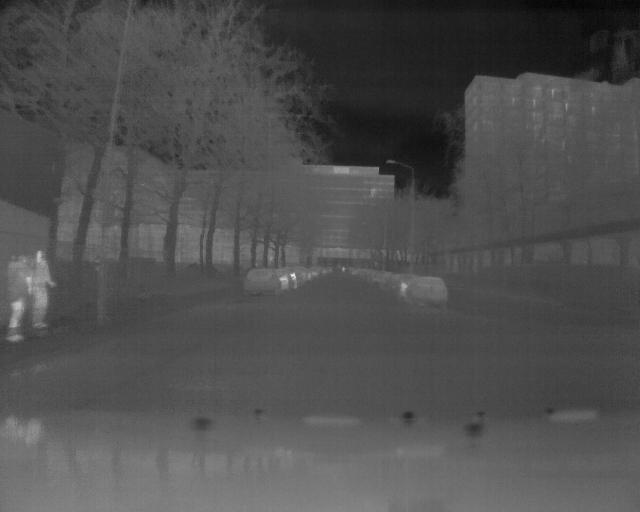car: (401, 275, 448, 305), (241, 265, 282, 295)
person: (26, 248, 58, 335), (5, 251, 28, 343)
